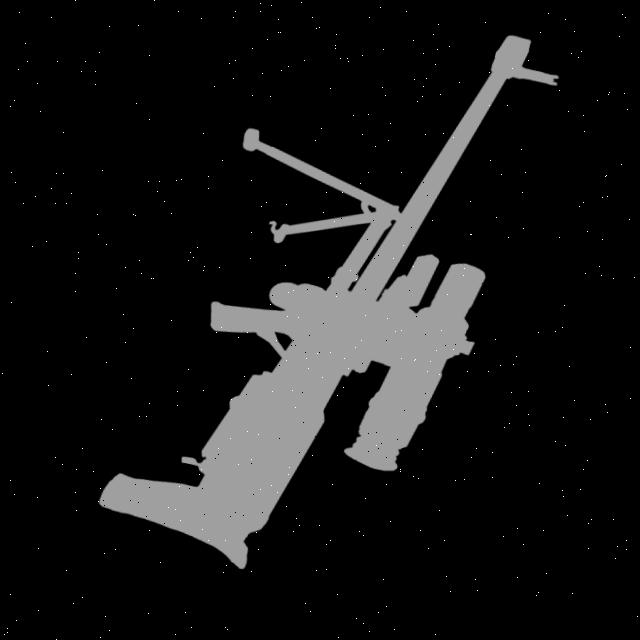firearm: (79, 0, 571, 618)
